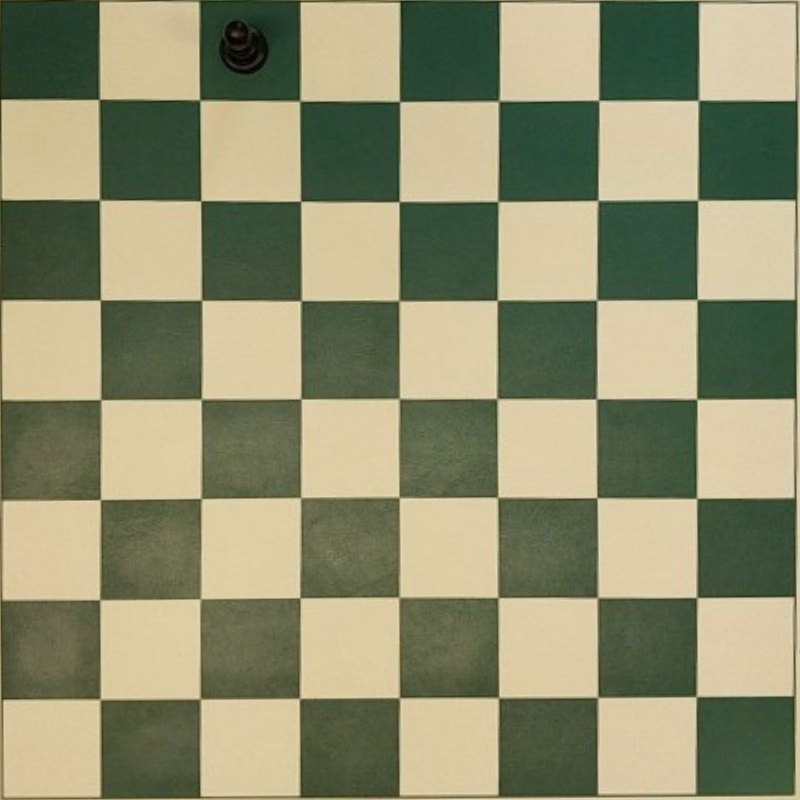black-pawn: (221, 19, 267, 72)
